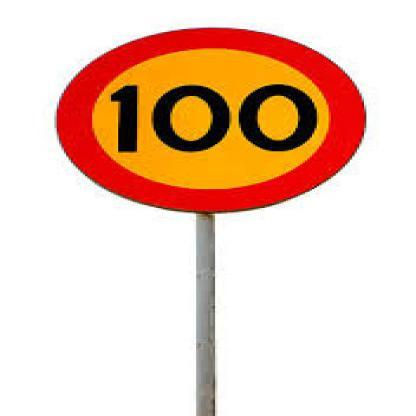Speed Limit 100: (64, 27, 362, 209)
